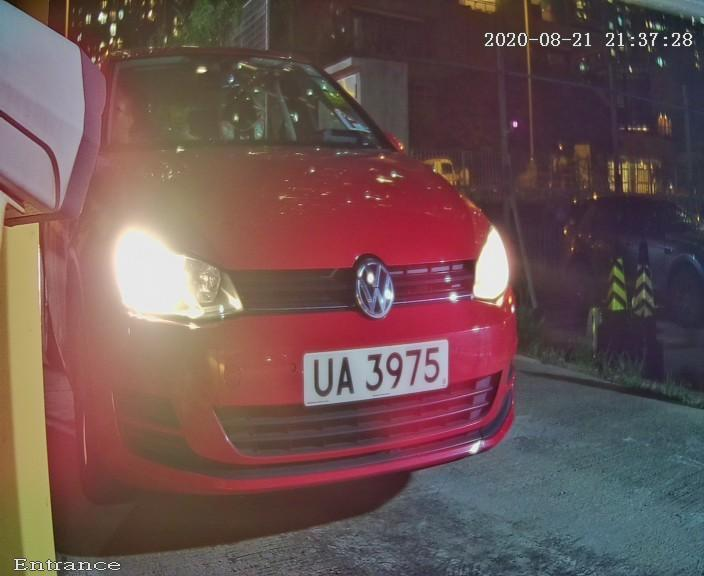Car: (32, 11, 585, 541)
License Plate: (287, 332, 466, 412)
